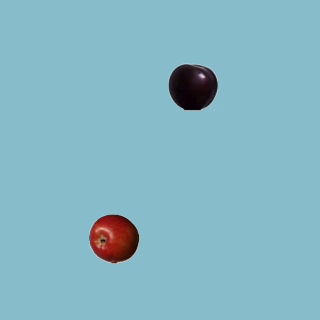Apple Braeburn: (88, 213, 138, 263)
Cherry Wax Black: (167, 61, 217, 111)
